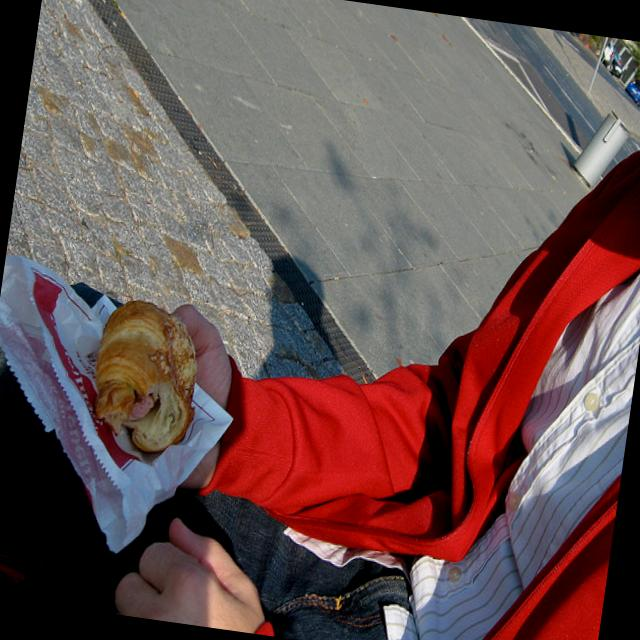Vehicle: (623, 75, 640, 108)
